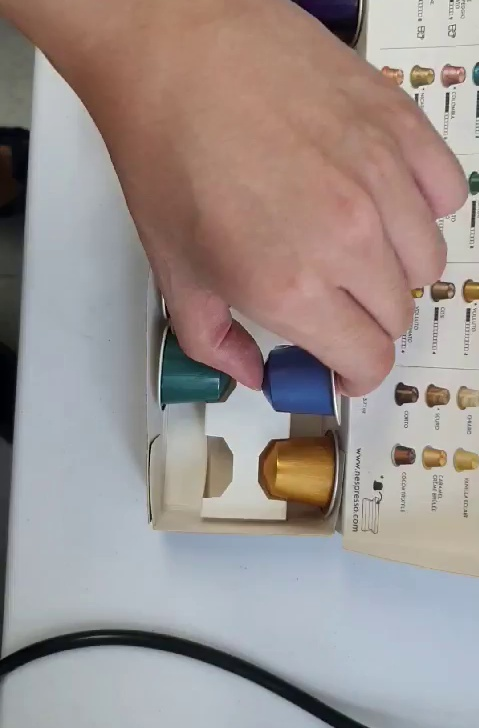capsule_7: (258, 333, 347, 423)
